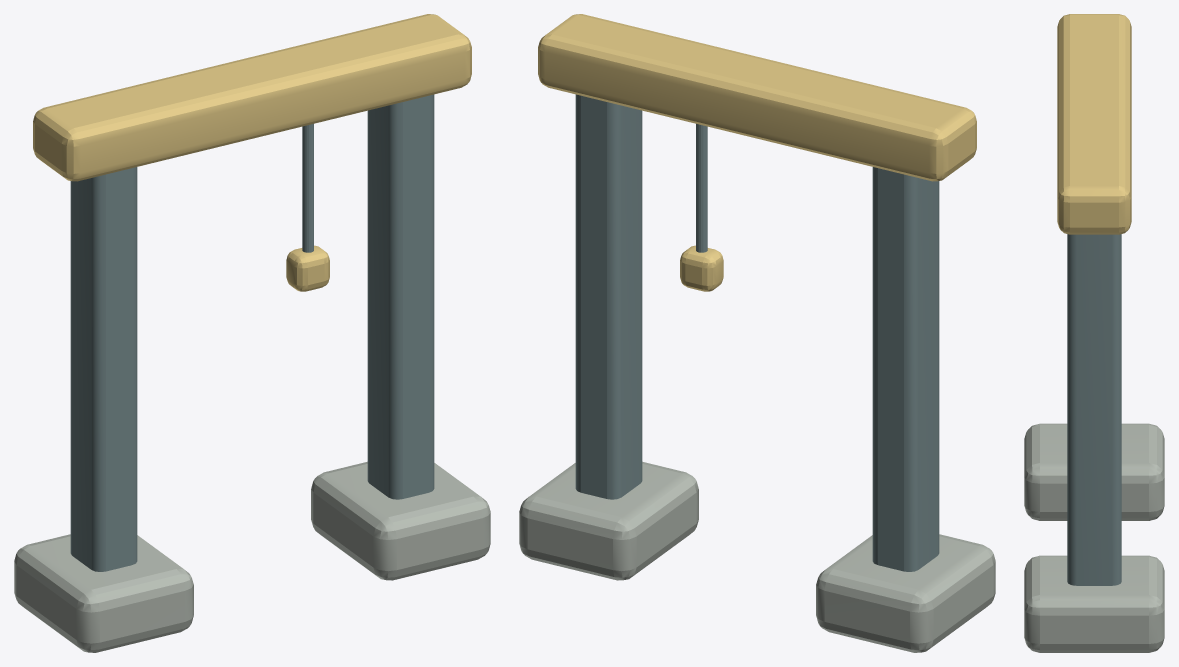
File: quarry_crane.glb
The picture shows the model from 3 angles, left to right: view 1: azimuth 30°, elevation 25°; view 2: azimuth 150°, elevation 25°; view 3: azimuth 270°, elevation 25°; orthographic projection. The views are drawn at different scales.
Visible parts, largest first — view 1: Surface_WorldMetal, Surface_WorldBrass, Surface_WorldStone; view 2: Surface_WorldMetal, Surface_WorldBrass, Surface_WorldStone; view 3: Surface_WorldStone, Surface_WorldMetal, Surface_WorldBrass.
Boxes of the visible parts, x1,y1,x2,y2 form: Surface_WorldMetal: (70, 94, 434, 571); Surface_WorldBrass: (33, 14, 471, 291); Surface_WorldStone: (14, 461, 490, 652); Surface_WorldMetal: (575, 94, 939, 571); Surface_WorldBrass: (538, 14, 976, 291); Surface_WorldStone: (519, 461, 995, 652); Surface_WorldStone: (1024, 423, 1164, 652); Surface_WorldMetal: (1067, 234, 1121, 585); Surface_WorldBrass: (1057, 14, 1131, 234).
Size of the model in its own units: 2.22 by 2.64 by 0.72.
